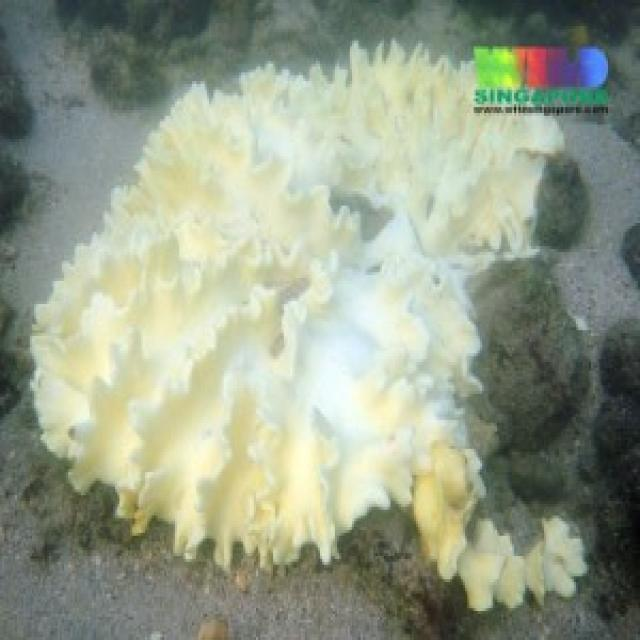Bleached: (33, 71, 481, 577), (240, 42, 564, 253), (460, 519, 586, 609)
